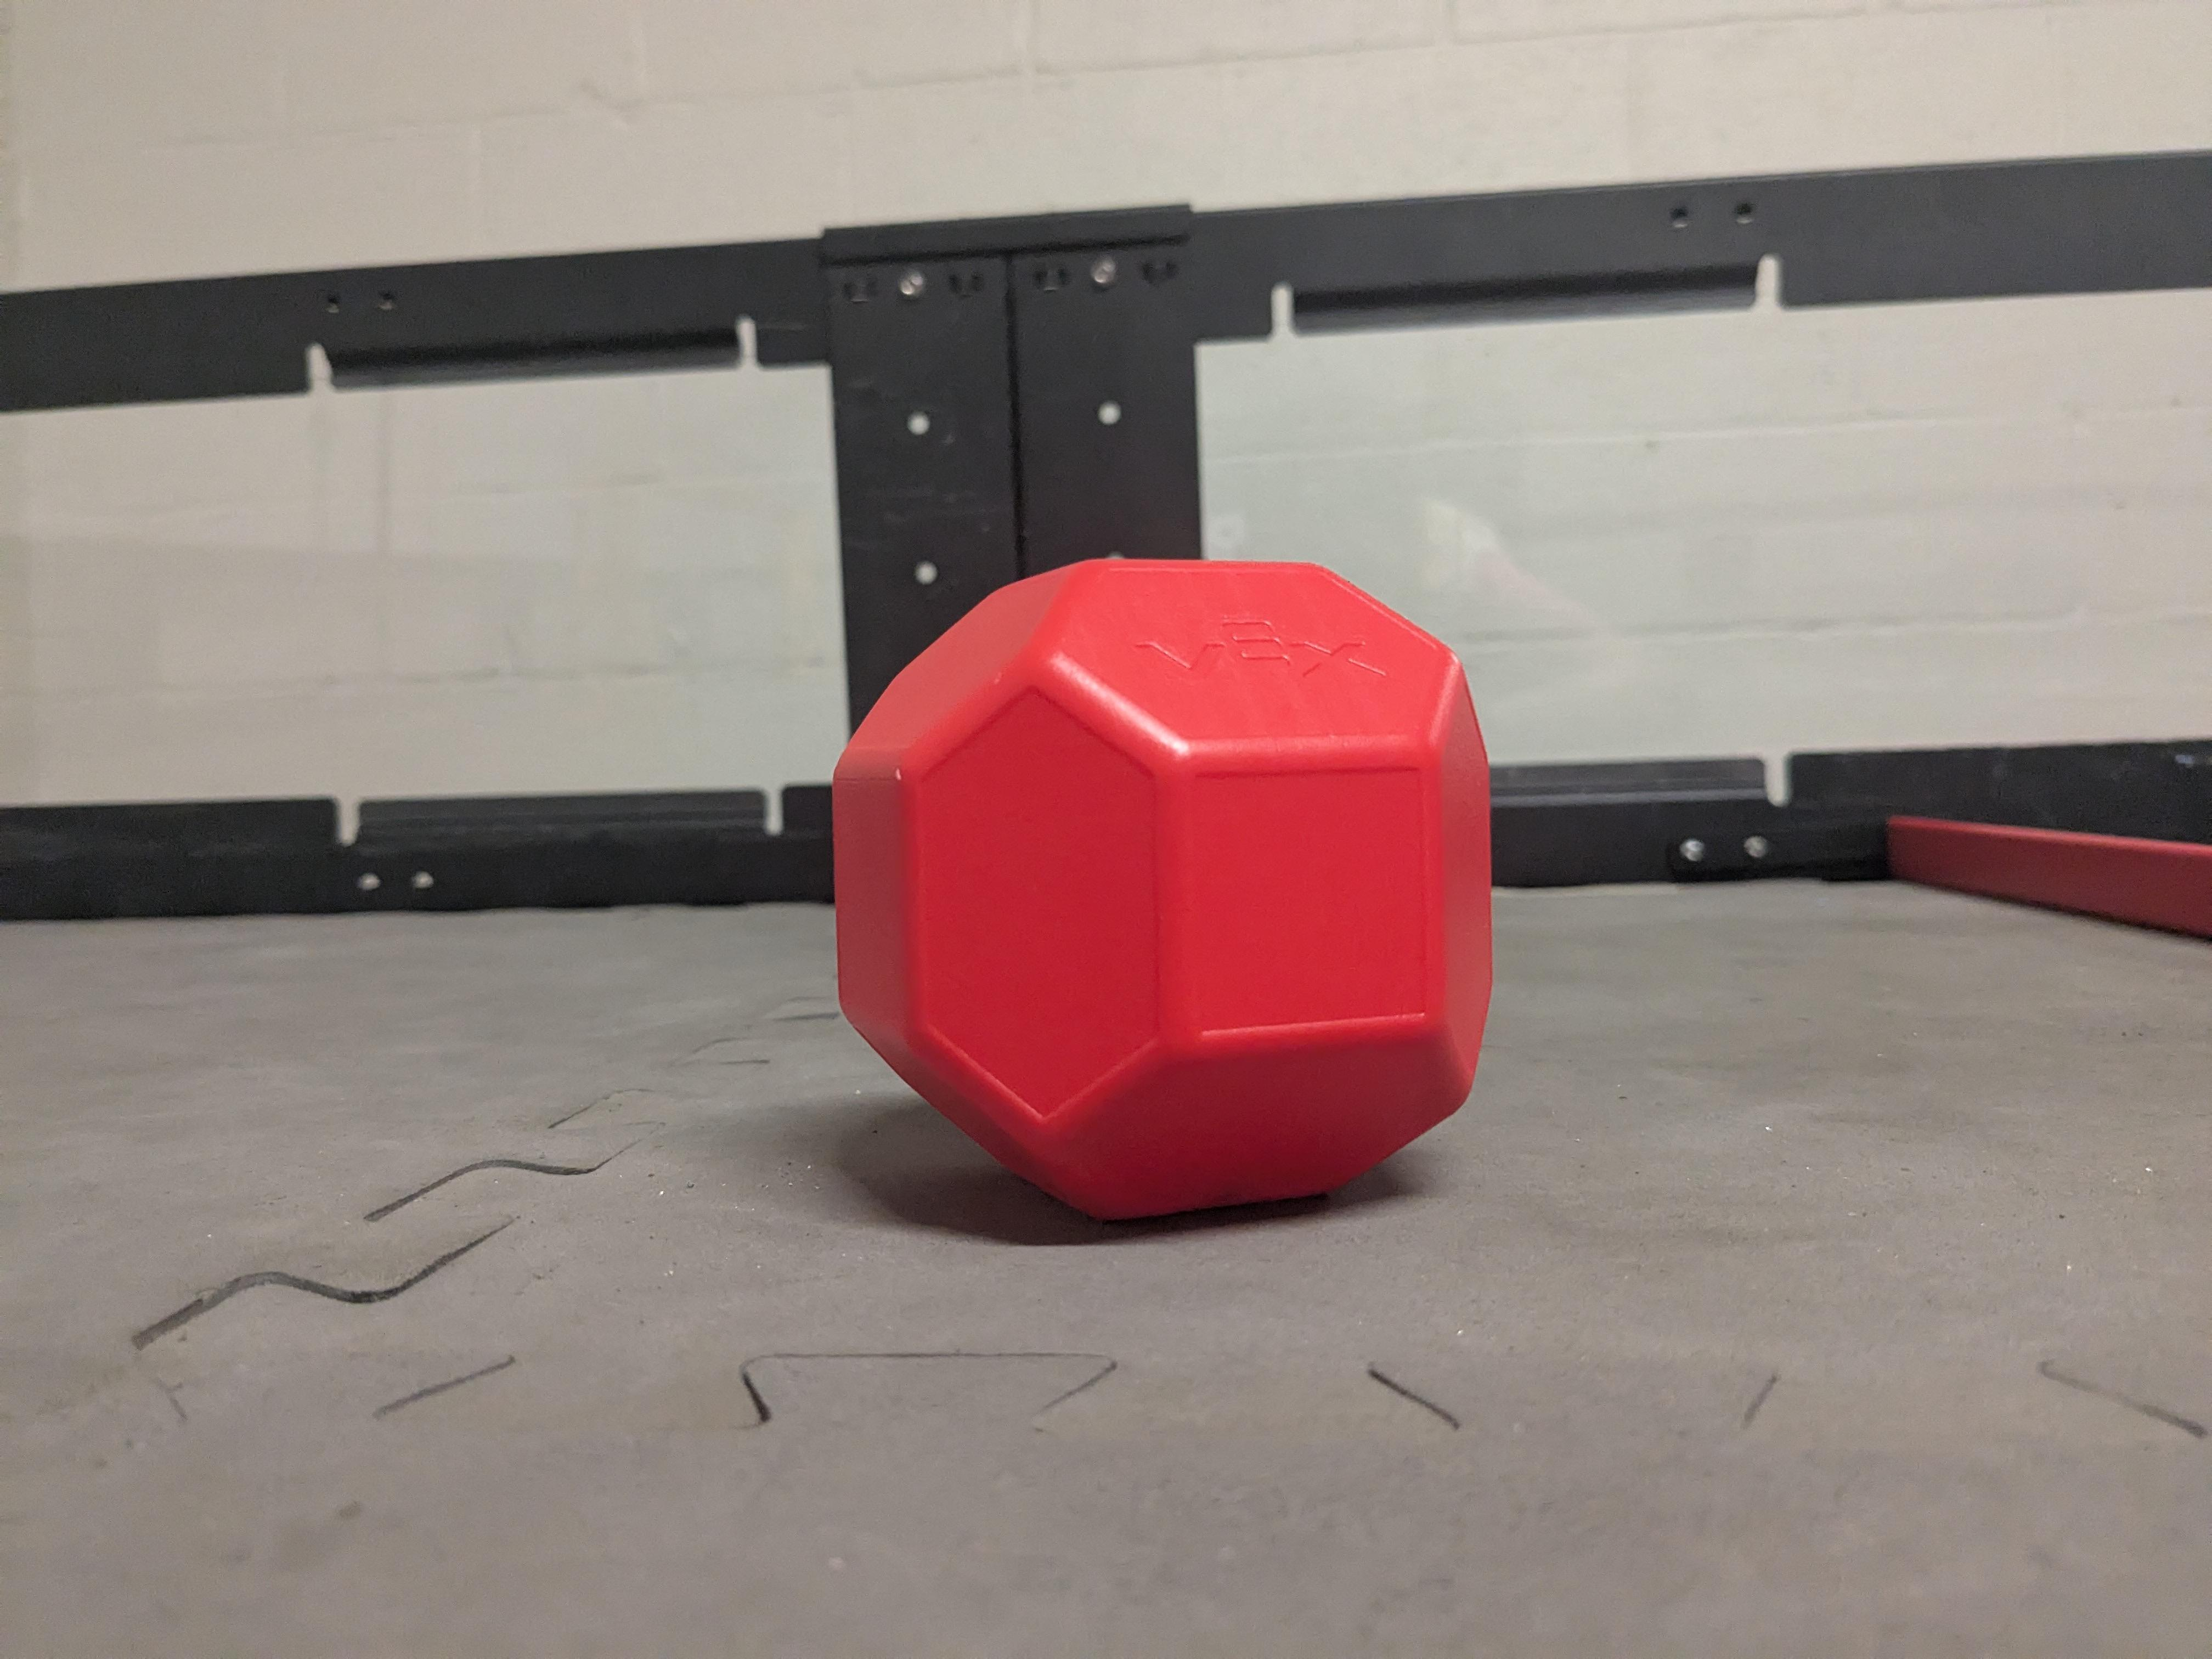Vex-Pieces-RED: (840, 554, 1496, 1218)
